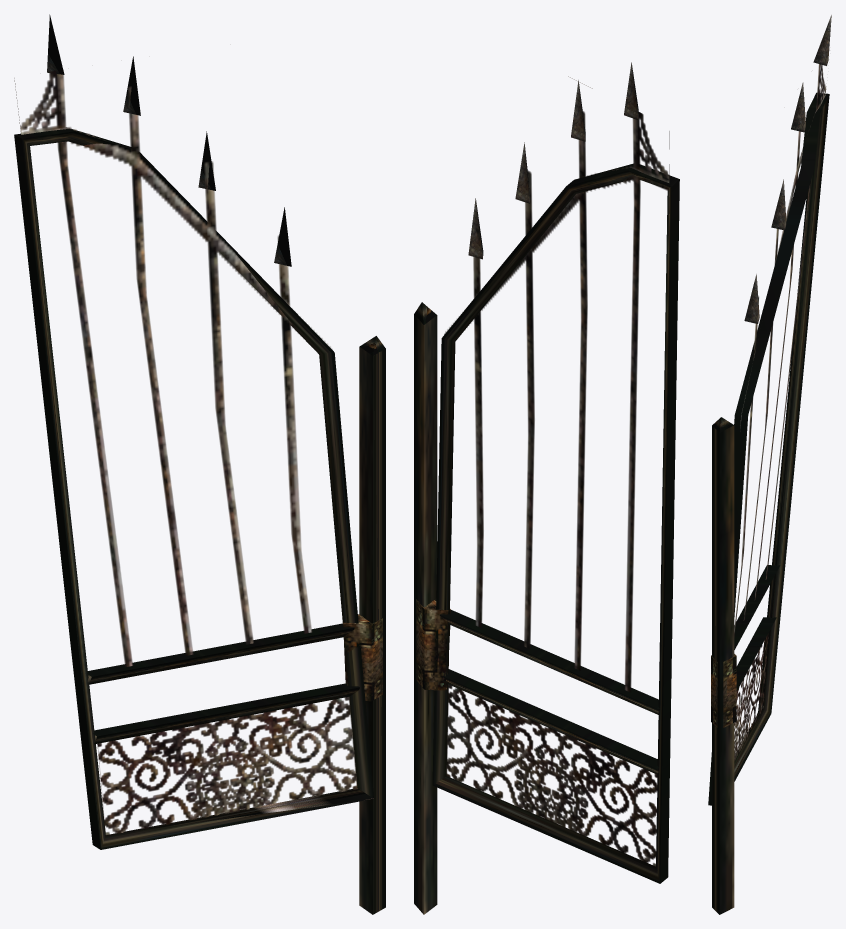
Rendered from cem_doorr.glb.
3 views of the same model, side by side, from view 1: azimuth 30°, elevation 25°; view 2: azimuth 150°, elevation 25°; view 3: azimuth 270°, elevation 25° (orthographic). The views are drawn at different scales.
Parts seen in each view (by area): view 1: cem_doorr-col; view 2: cem_doorr-col; view 3: cem_doorr-col.
Boxes of the visible parts, <box> form: cem_doorr-col: <box>14,14,385,914</box>; cem_doorr-col: <box>414,62,679,914</box>; cem_doorr-col: <box>708,15,831,914</box>.
Size of the model in its own units: 1.73 by 4.88 by 0.6944.
Materials: 2 (2 with a texture image).
